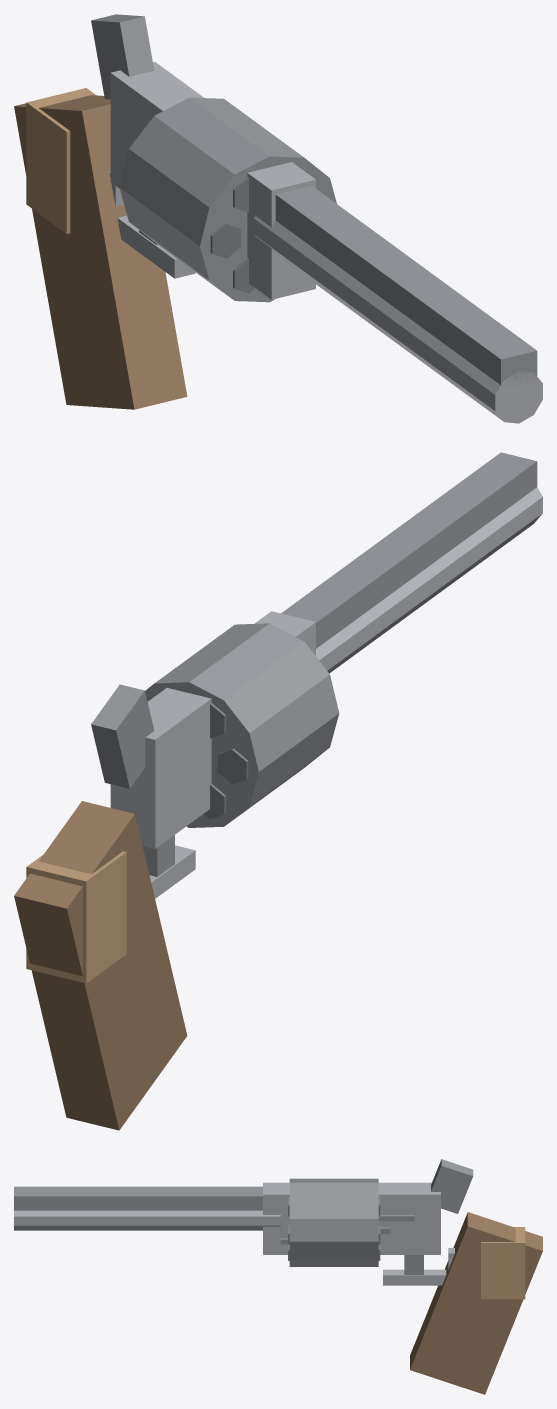
The model's file is pistol.glb.
The picture shows the model from 3 angles, top to bottom: view 1: azimuth 30°, elevation 25°; view 2: azimuth 150°, elevation 25°; view 3: azimuth 270°, elevation 25°; orthographic projection. The views are drawn at different scales.
Visible parts, largest first — view 1: pistol; view 2: pistol; view 3: pistol.
Part boxes in pixels (<box>): pistol: <box>14,14,542,423</box>; pistol: <box>14,452,542,1130</box>; pistol: <box>14,1159,542,1394</box>.
Size of the model in its own units: 0.1 by 0.2797 by 0.5948.
